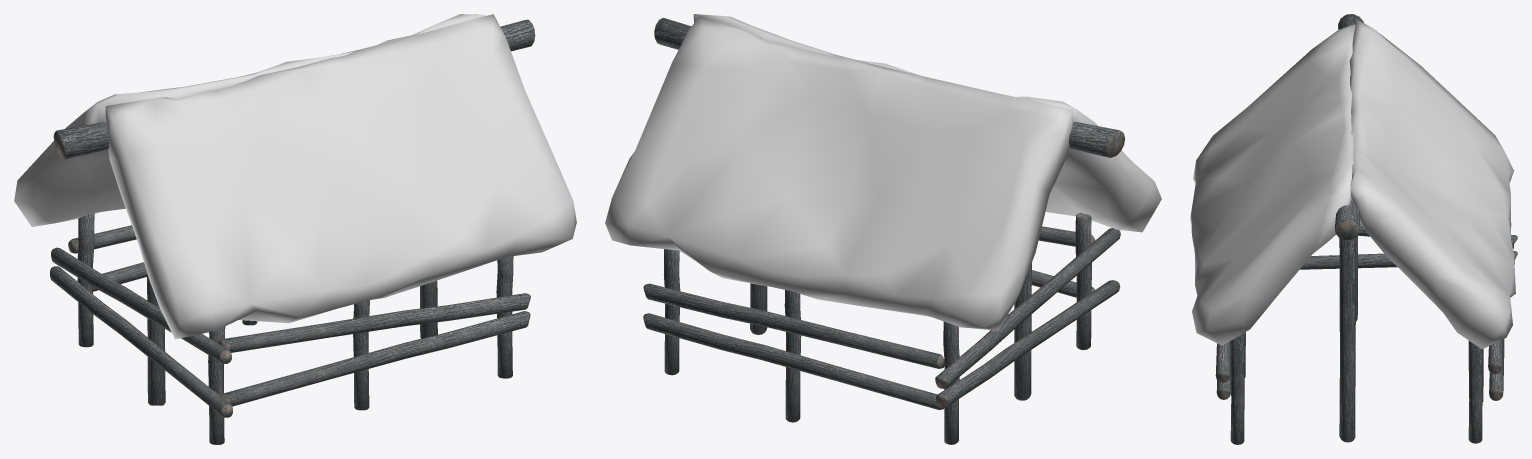
File: thatched pen.fbx
The picture shows the model from 3 angles, left to right: view 1: azimuth 30°, elevation 25°; view 2: azimuth 150°, elevation 25°; view 3: azimuth 270°, elevation 25°; orthographic projection. The views are drawn at different scales.
Parts seen in each view (by area): view 1: tached pen; view 2: tached pen; view 3: tached pen.
Boxes of the visible parts, x1,y1,x2,y2 form: tached pen: [14, 14, 576, 444]; tached pen: [605, 14, 1161, 444]; tached pen: [1190, 14, 1517, 444].
Size of the model in its own units: 435 by 286 by 292.
